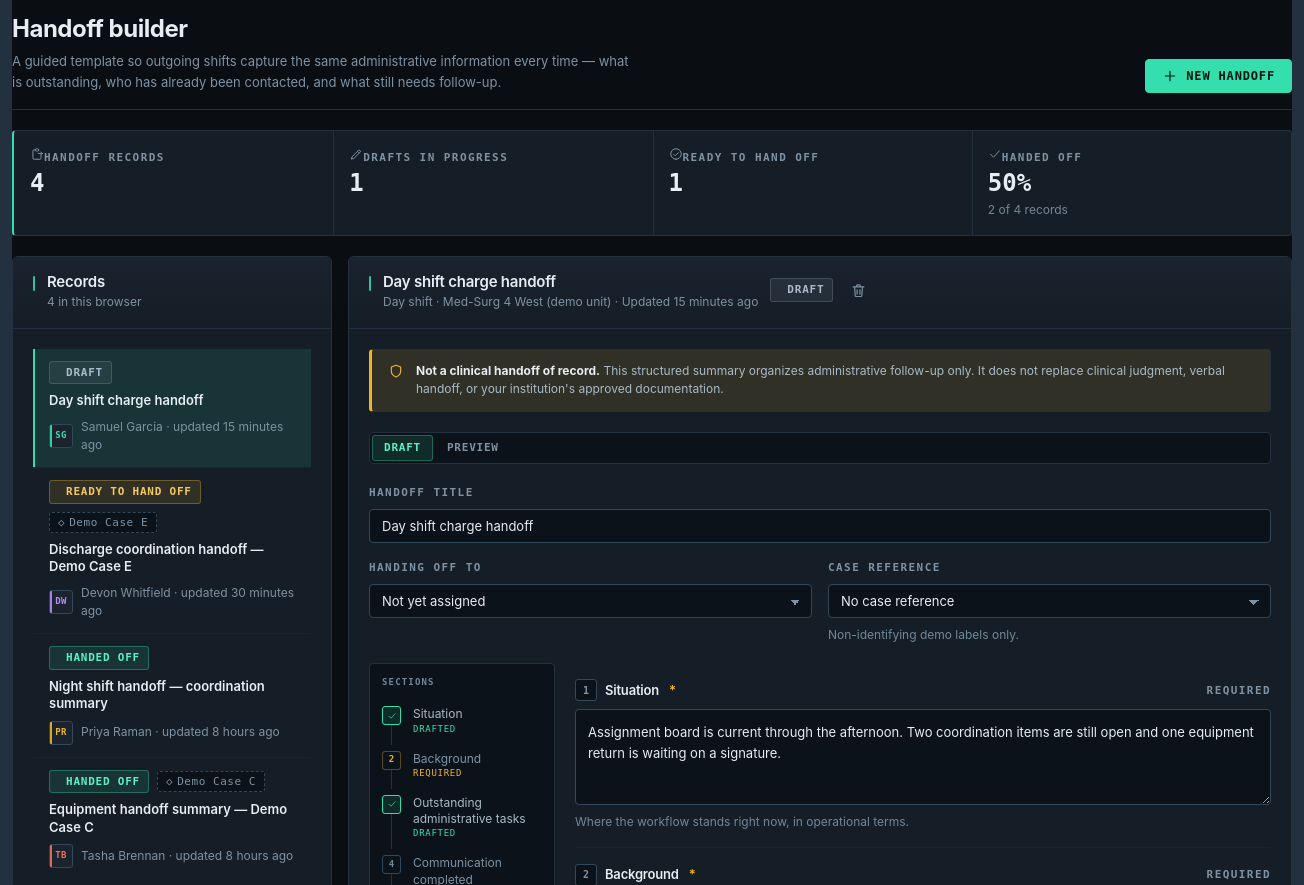
Test: HandoffPage › logs handoff changes in the record activity list
Type " Updated at shift change." into the text box named "Situation" at (923, 757), box [575,709,1271,805]
(page scrolled)
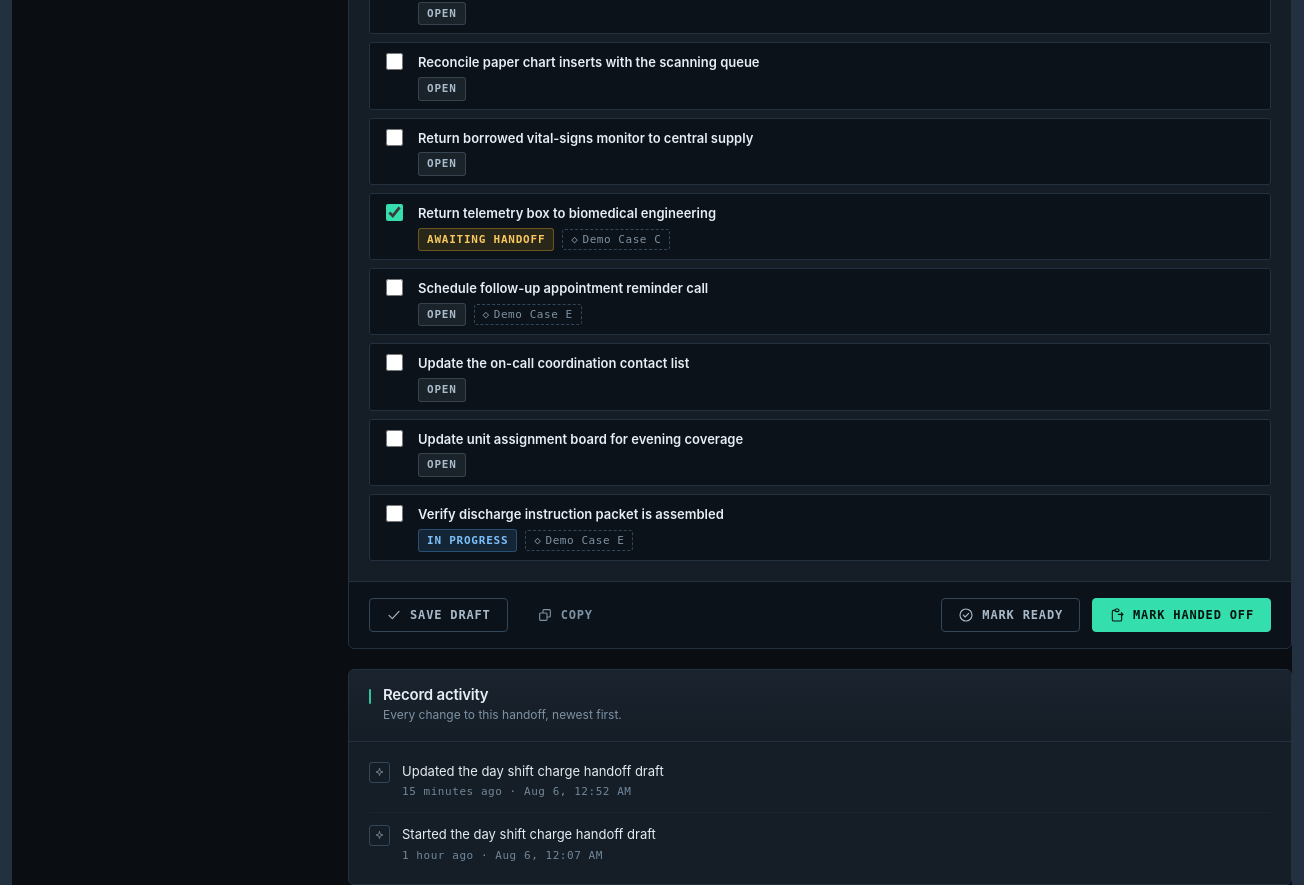
Click the button "Save draft" at (438, 615), box [369,598,508,632]
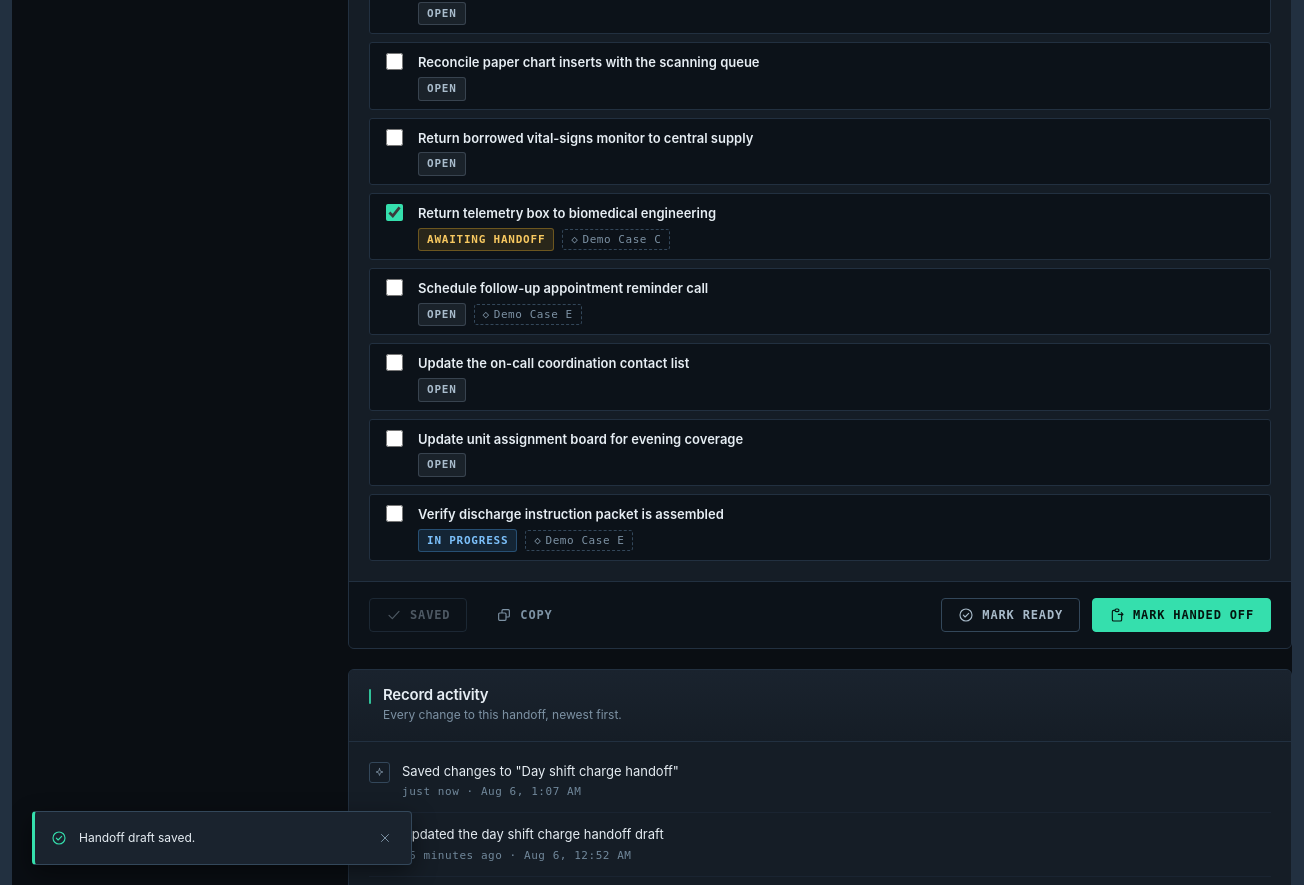
Now the text "Saved changes to \"Day shift charge handoff\"" is shown, box [402,763,679,779]
